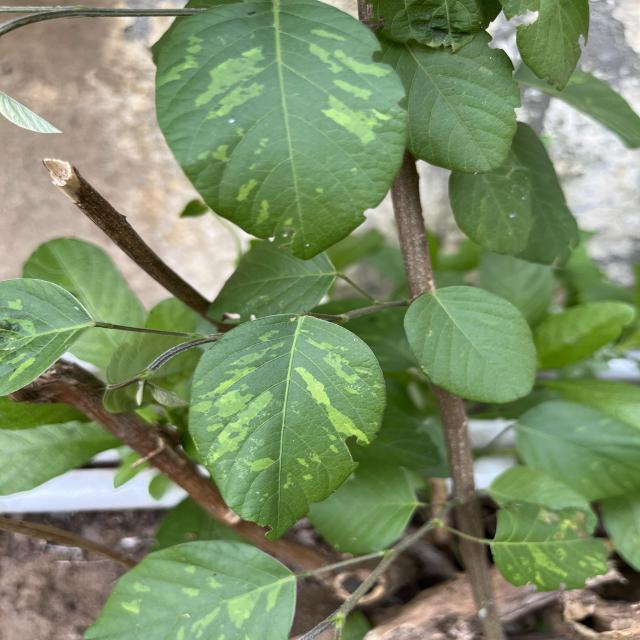Desmodium gangeticum: (185, 311, 389, 544)
